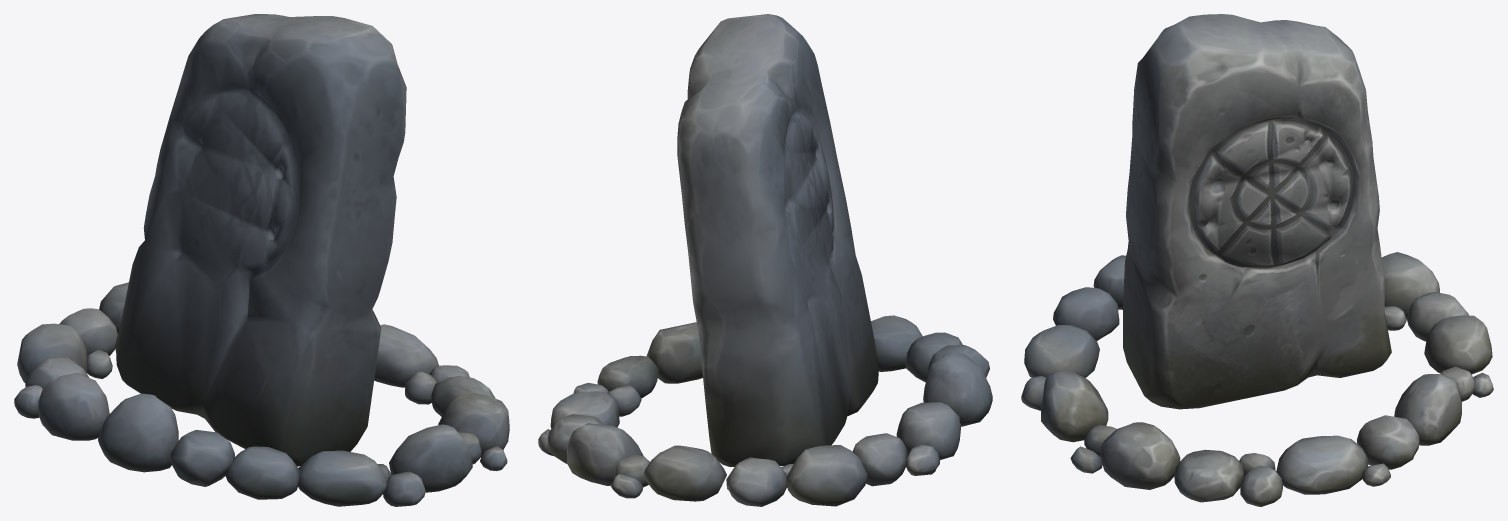
3 views of the same model, side by side, from view 1: azimuth 30°, elevation 25°; view 2: azimuth 150°, elevation 25°; view 3: azimuth 270°, elevation 25° (orthographic). The views are drawn at different scales.
Visible parts, largest first — view 1: tripo_node_5e46efed-d946-4510-8edf-12a3d7066e4e; view 2: tripo_node_5e46efed-d946-4510-8edf-12a3d7066e4e; view 3: tripo_node_5e46efed-d946-4510-8edf-12a3d7066e4e.
Boxes of the visible parts, <box> form: tripo_node_5e46efed-d946-4510-8edf-12a3d7066e4e: <box>14,14,509,506</box>; tripo_node_5e46efed-d946-4510-8edf-12a3d7066e4e: <box>538,14,992,506</box>; tripo_node_5e46efed-d946-4510-8edf-12a3d7066e4e: <box>1021,14,1493,506</box>.
Size of the model in its own units: 0.9746 by 0.9551 by 0.998.
Materials: 1 (1 with a texture image).
